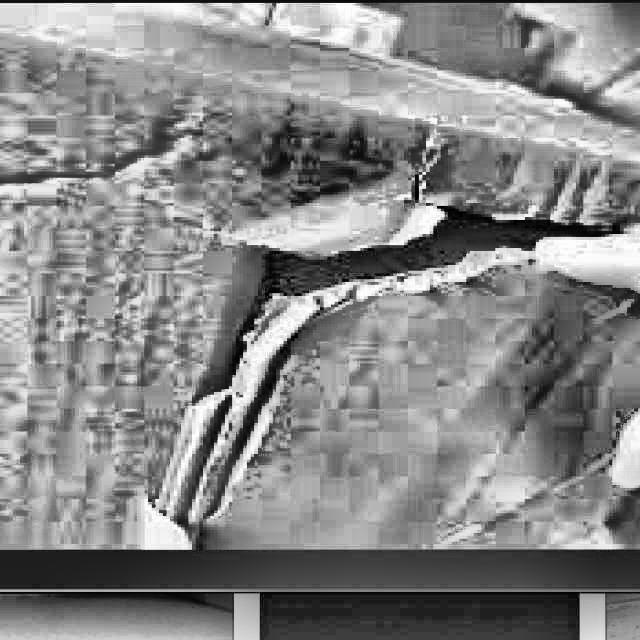box: (0, 0, 639, 558)
hole: (217, 192, 629, 410)
